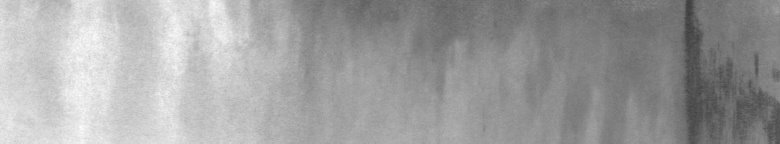ka: (677, 4, 776, 136)
